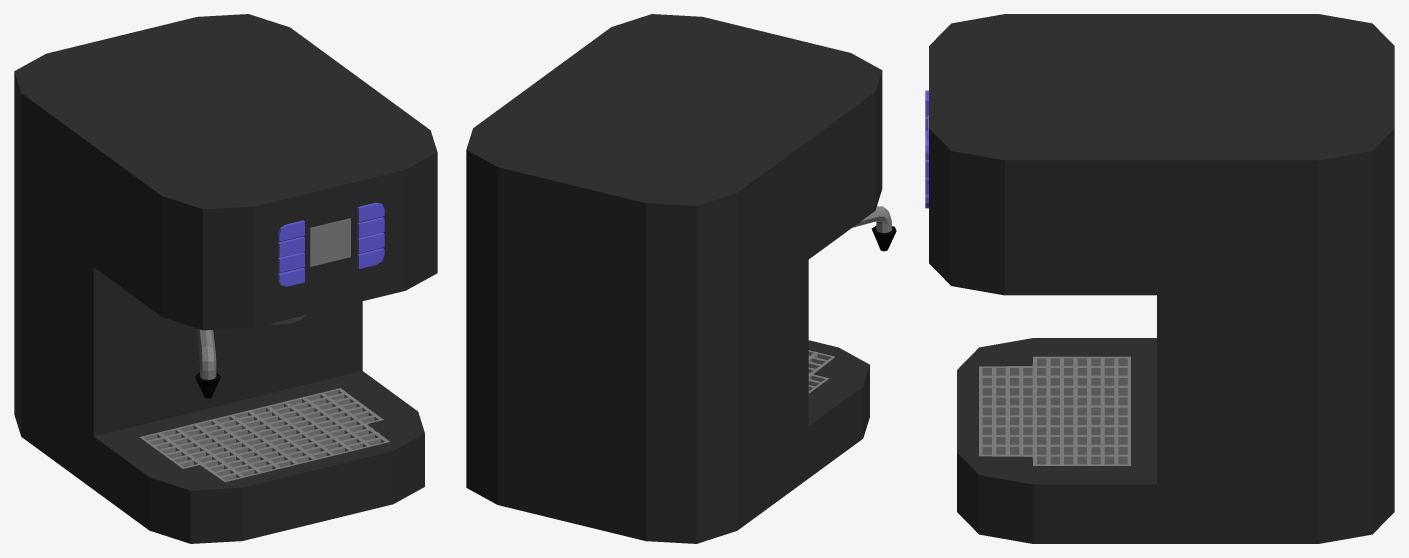
Rendered from CoffeeMaschiene.glb.
3 renders of one model, left to right at view 1: azimuth 30°, elevation 25°; view 2: azimuth 150°, elevation 25°; view 3: azimuth 270°, elevation 25°, orthographic. The views are drawn at different scales.
Parts seen in each view (by area): view 1: Cube.013, Cube.014, Plane.021, Cylinder.004; view 2: Cube.013, Cylinder.004, Cube.014; view 3: Cube.013, Cube.014.
Boxes of the visible parts, bbox=[...] form: Cube.013: bbox=[14, 14, 437, 543]; Cube.014: bbox=[139, 388, 389, 481]; Plane.021: bbox=[277, 202, 384, 286]; Cylinder.004: bbox=[195, 328, 220, 398]; Cube.013: bbox=[466, 14, 882, 543]; Cylinder.004: bbox=[852, 206, 896, 251]; Cube.014: bbox=[808, 350, 835, 393]; Cube.013: bbox=[929, 14, 1394, 543]; Cube.014: bbox=[979, 356, 1130, 465].
Size of the model in its own units: 0.4415 by 0.5394 by 0.5985.
